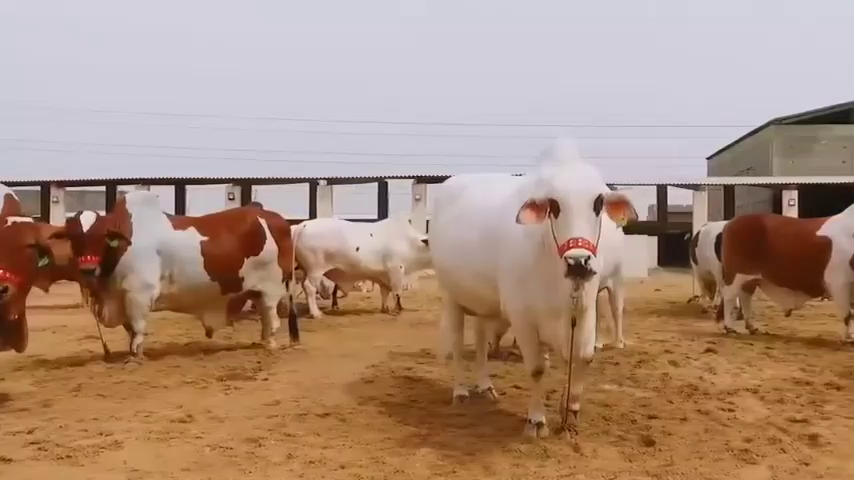bo: (429, 132, 633, 444), (42, 172, 303, 368), (713, 183, 854, 353), (295, 208, 434, 321), (2, 180, 57, 394), (594, 218, 632, 338), (689, 206, 724, 316)
